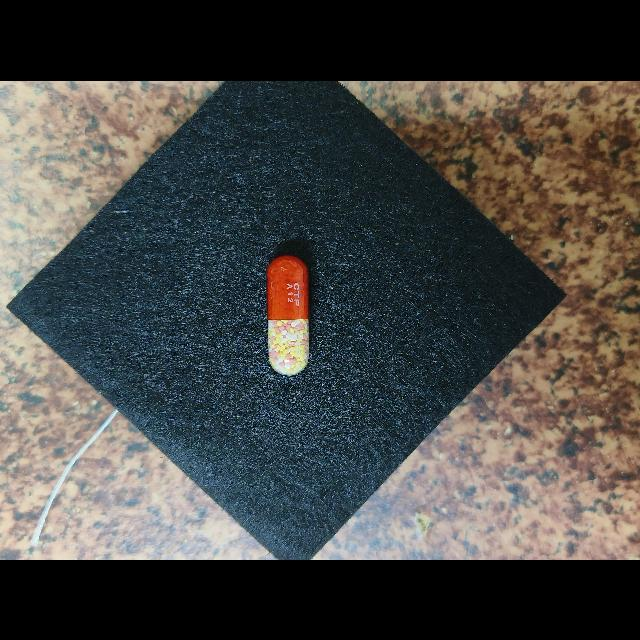Intact Capsule: (267, 255, 309, 375)
